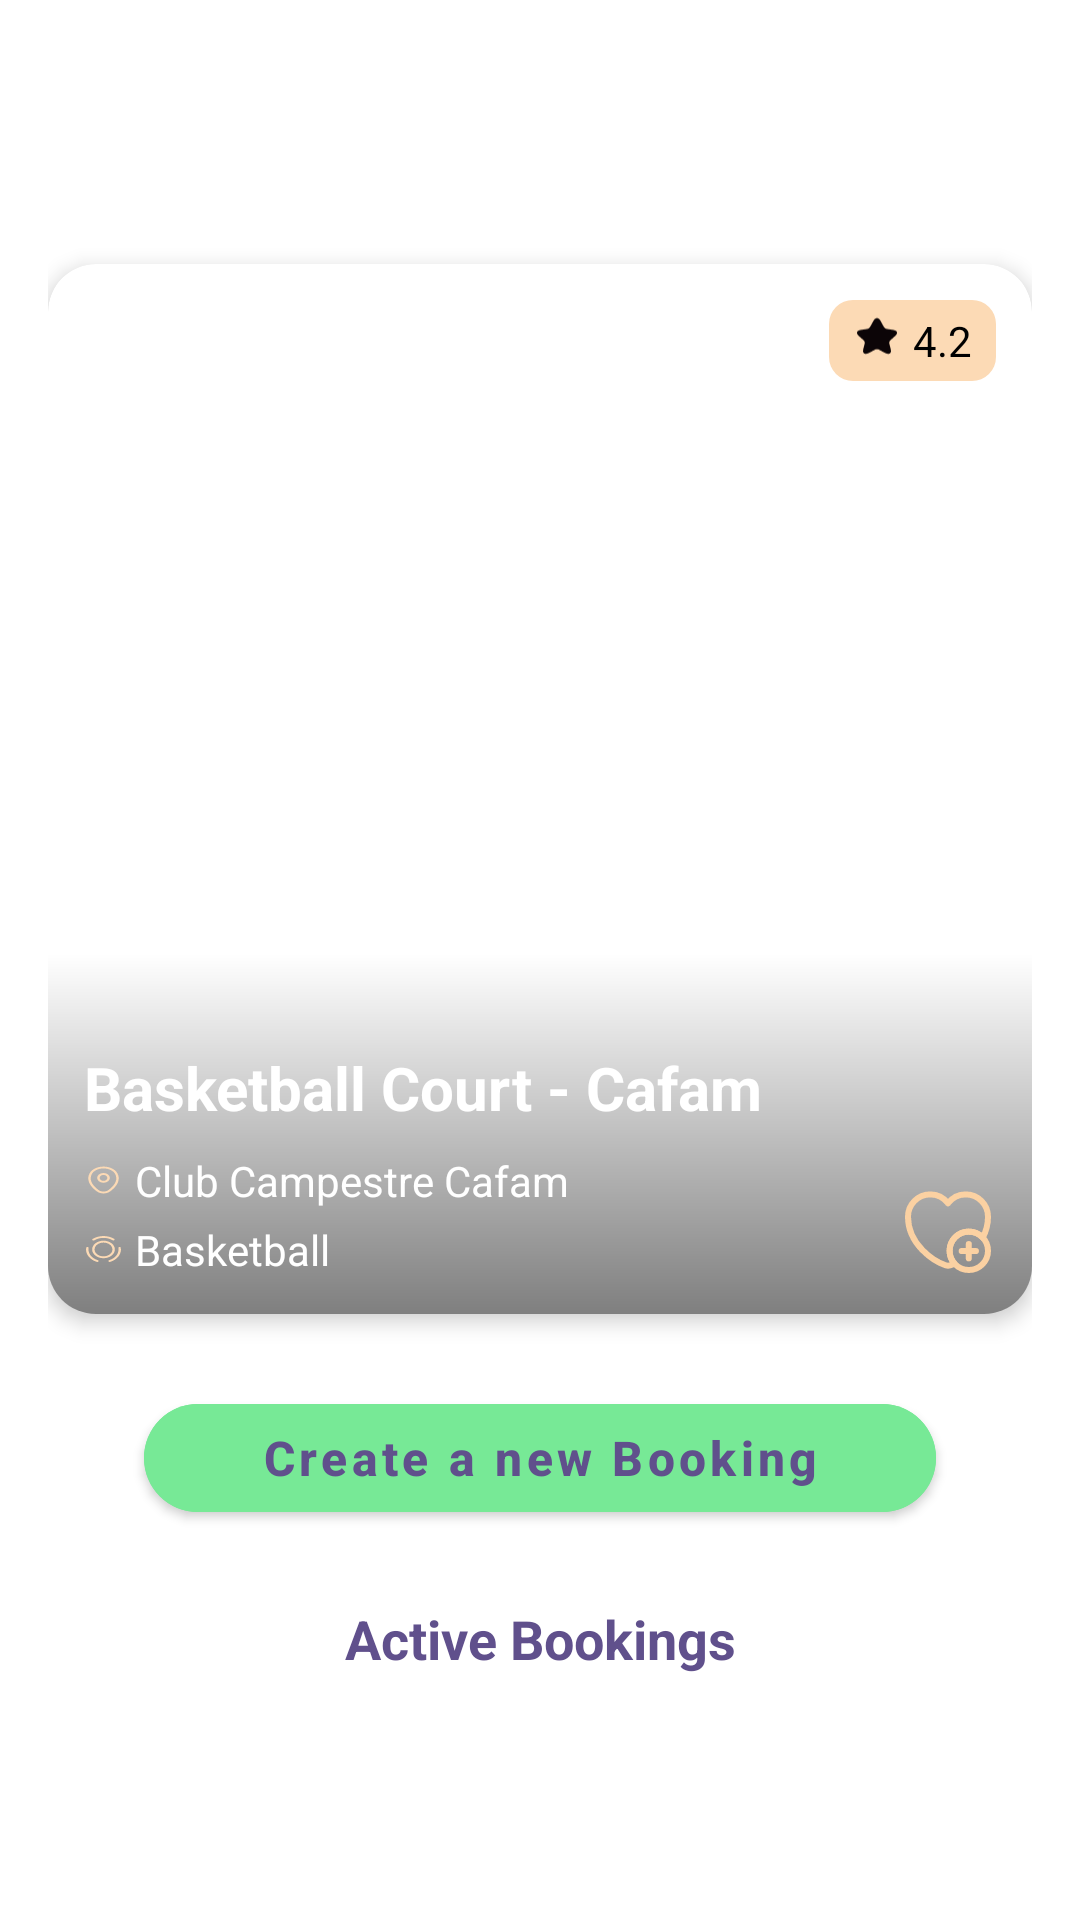

Icon click points for this 1080w x 1920h phone screenshot, format (x,y):
heart: (948,1230)
star: (877,336)
